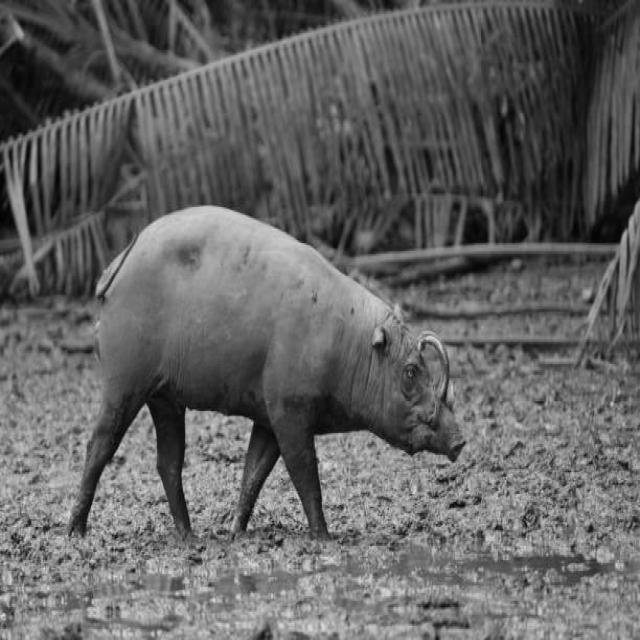boar: (69, 204, 461, 535)
